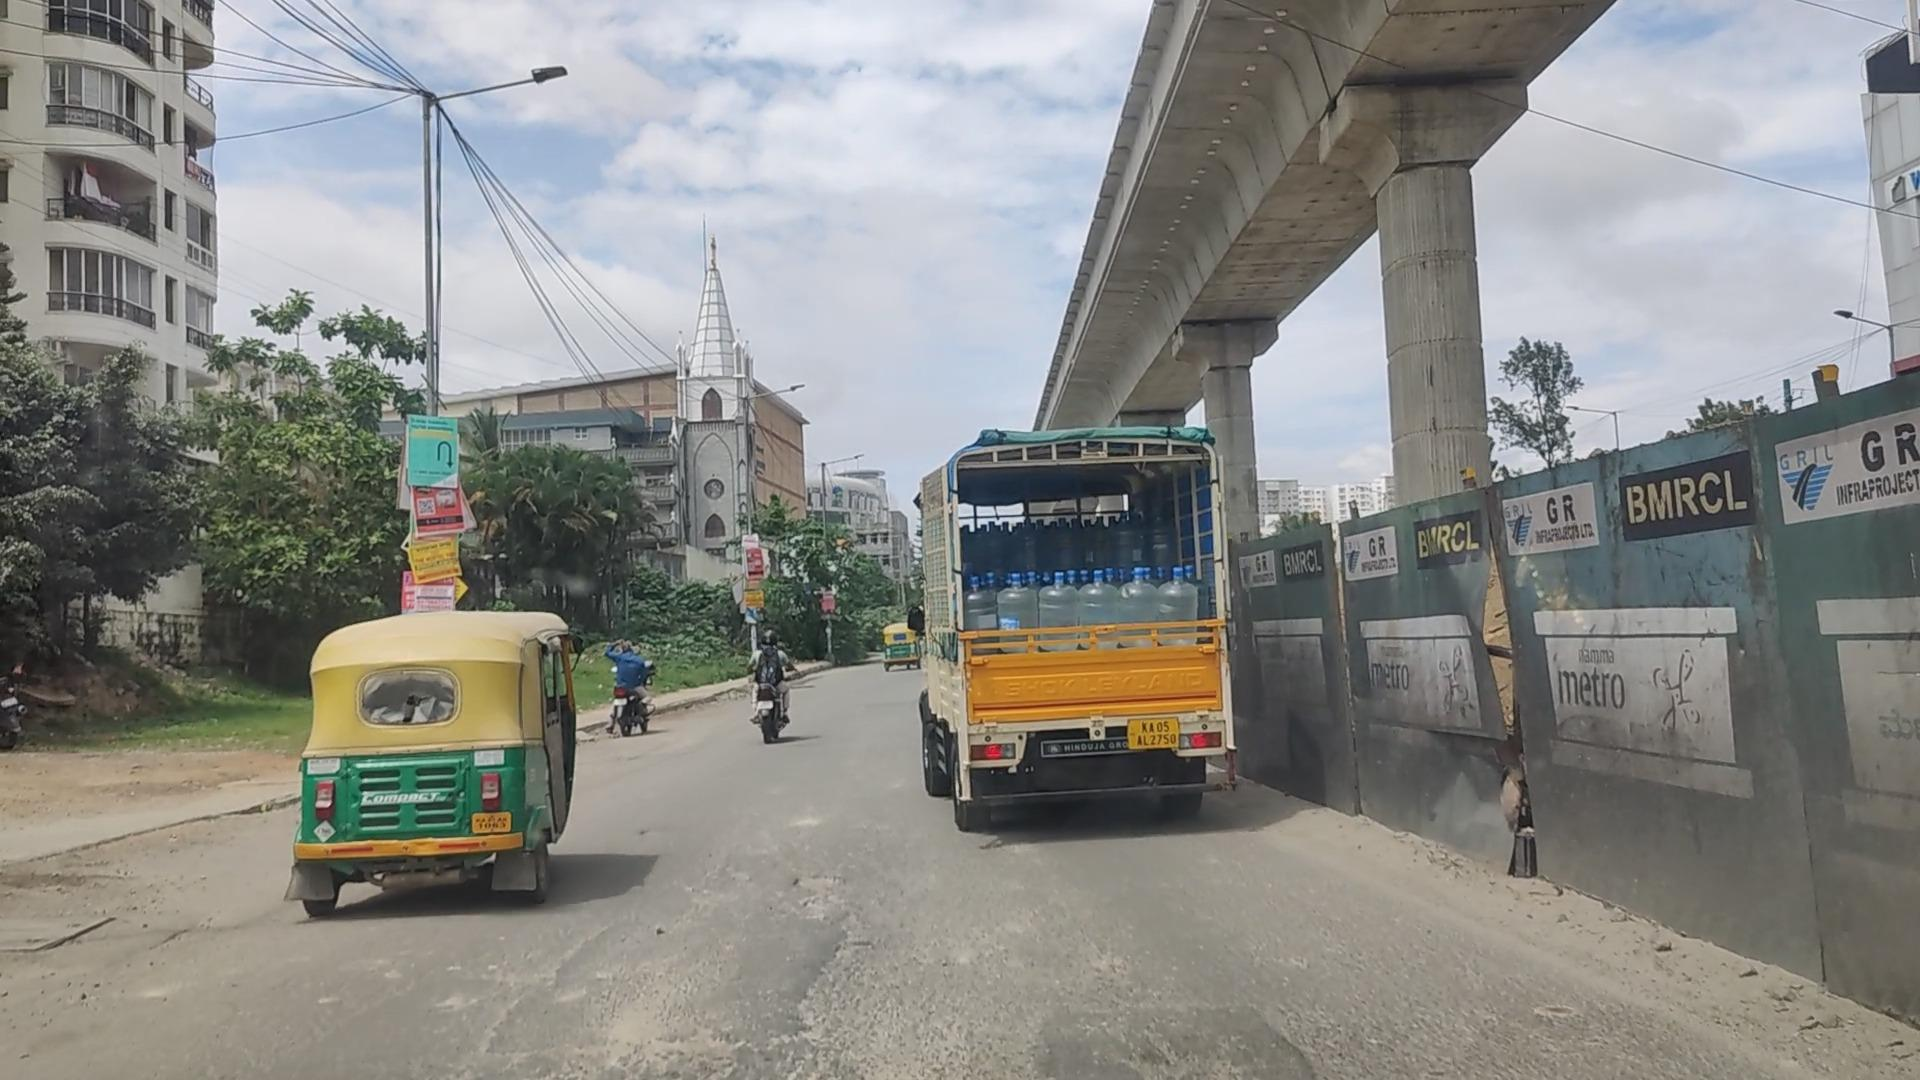HMV: (914, 430, 1246, 844)
LMV: (280, 616, 592, 922), (746, 633, 790, 748), (607, 637, 646, 742)
RoadDamages: (481, 955, 816, 1076), (1017, 951, 1308, 1080), (767, 841, 869, 916)
